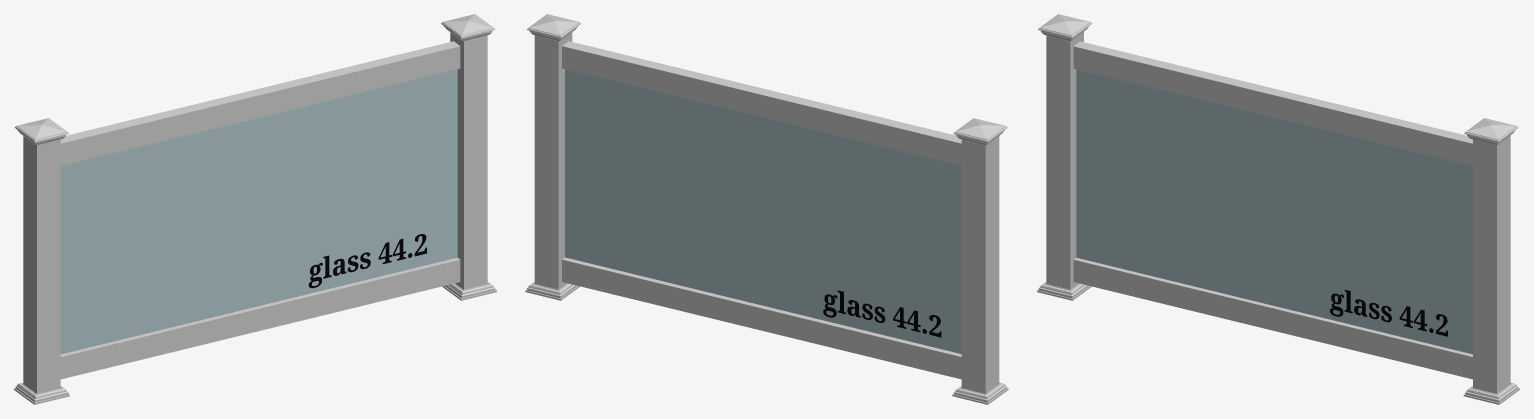
3 renders of one model, left to right at view 1: azimuth 30°, elevation 25°; view 2: azimuth 150°, elevation 25°; view 3: azimuth 330°, elevation 25°, orthographic.
Visible parts, largest first — view 1: Mesh_Mesh_head_geo.001_lambert2SG.001; view 2: Mesh_Mesh_head_geo.001_lambert2SG.001; view 3: Mesh_Mesh_head_geo.001_lambert2SG.001.
Part boxes in pixels (x1,y1,x2,y2): Mesh_Mesh_head_geo.001_lambert2SG.001: [14, 14, 496, 404]; Mesh_Mesh_head_geo.001_lambert2SG.001: [525, 14, 1008, 404]; Mesh_Mesh_head_geo.001_lambert2SG.001: [1037, 14, 1519, 404].
Size of the model in its own units: 195 by 108 by 15.
